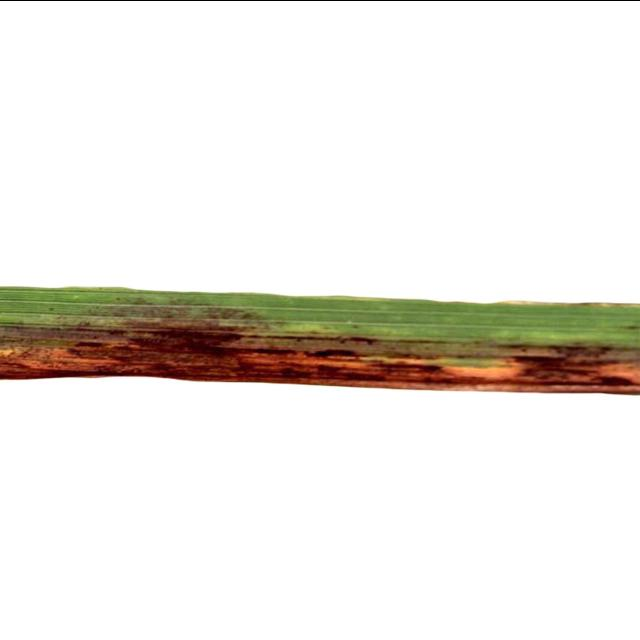Leaf scald: (0, 207, 640, 454)
